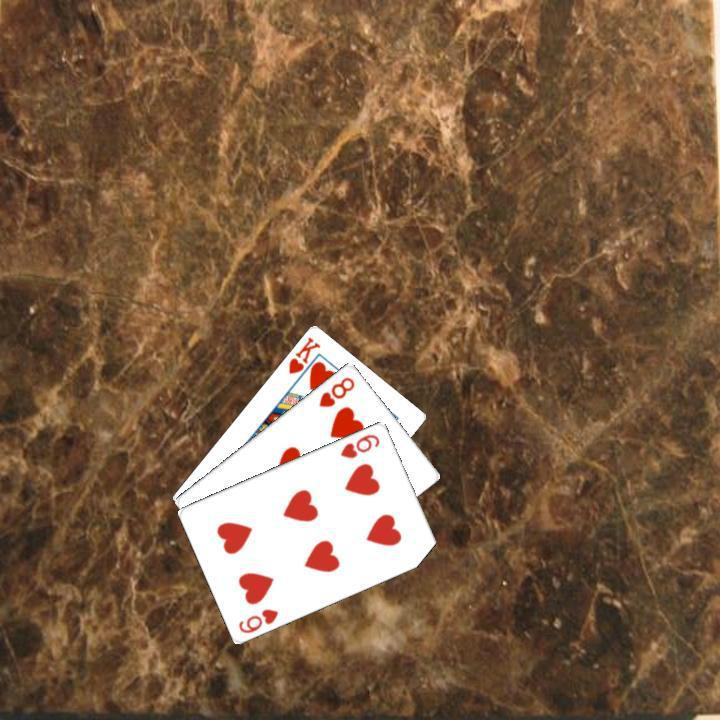6: (336, 429, 382, 460), (234, 604, 280, 635)
8: (314, 372, 357, 409)
K: (284, 332, 322, 376)
